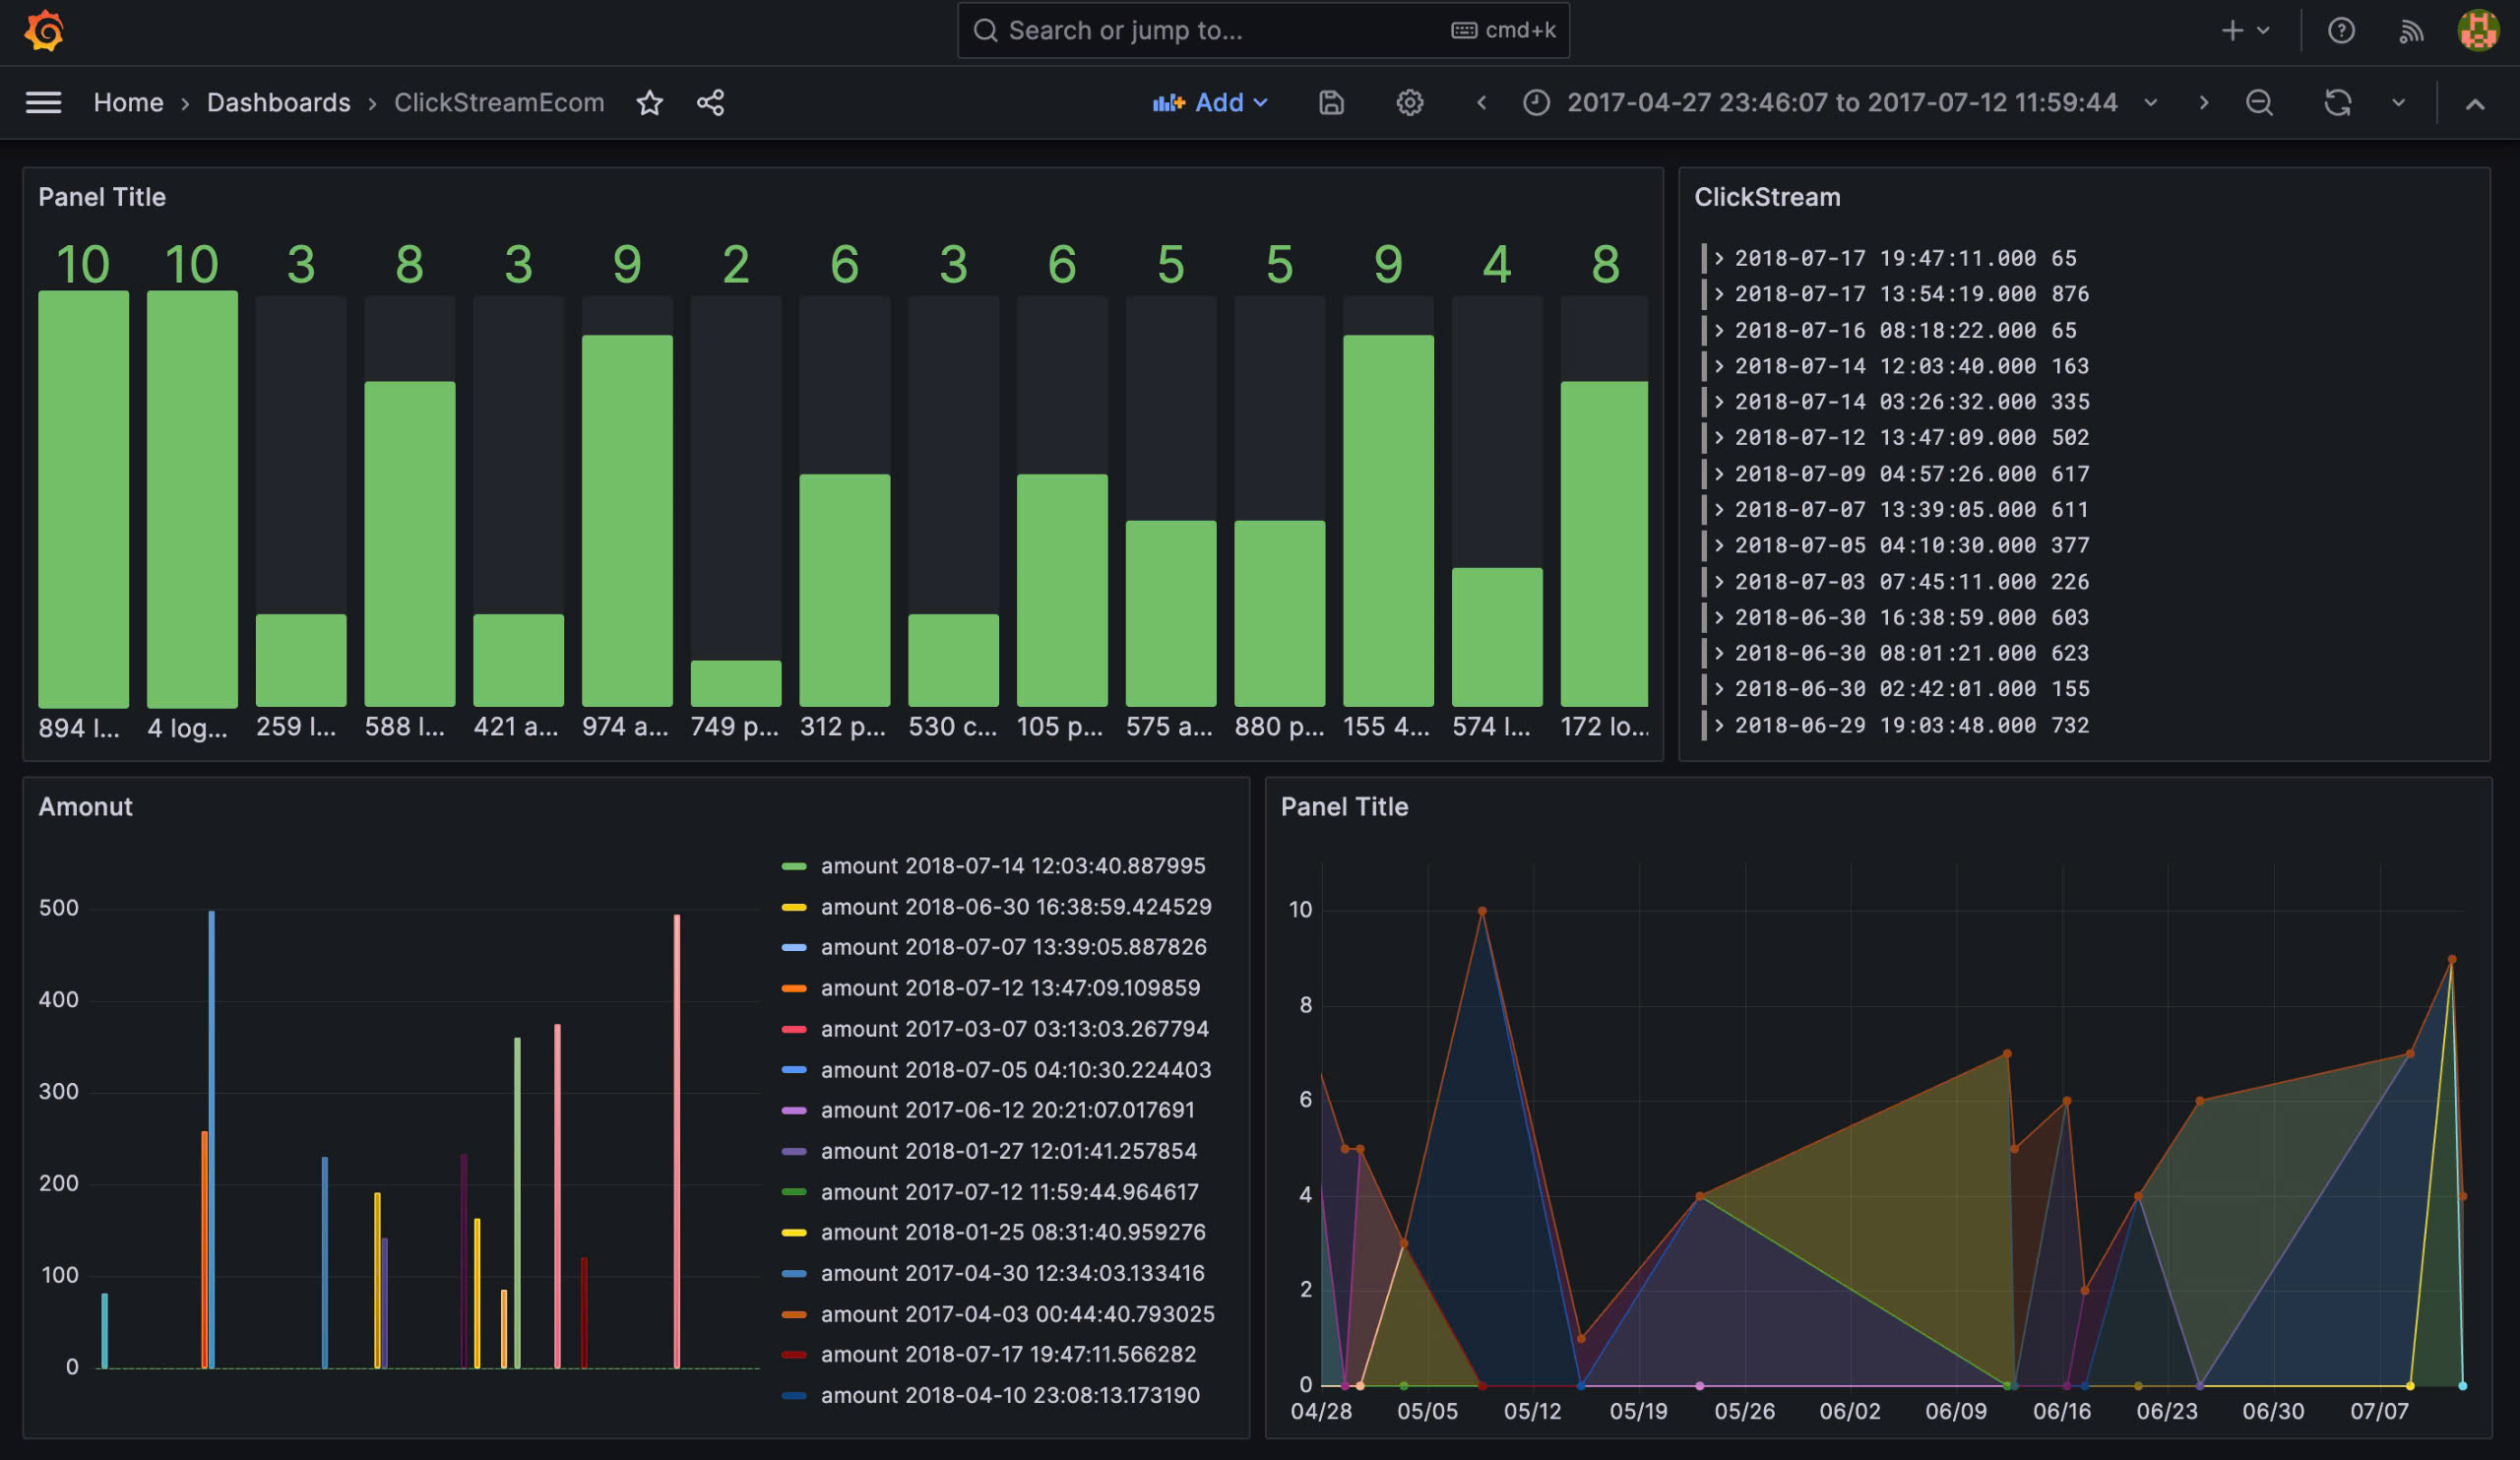

What the dashboard file says about the page in this screenshot:
{"tool":"powerbi","page":{"name":"ClickStream","canvas":[1280,720],"ordinal":2},"visuals":[{"type":"columnChart","fields":{"Y":["Sum(clickstream.amount)"],"Category":["clickstream.user_id"]},"box":[10.4,0,683.3,373],"z":0},{"type":"pieChart","fields":{"Category":["clickstream.session_id"],"Y":["CountNonNull(clickstream.product_id)"]},"box":[10,383,683,337],"z":1},{"type":"funnel","fields":{"Y":["Sum(clickstream.amount)"],"Category":["clickstream.session_id"]},"box":[703,0,577,373],"z":2},{"type":"areaChart","fields":{"Category":["clickstream.timestamp.Variation.Date Hierarchy.Year"],"Y":["Sum(clickstream.amount)"],"Y2":["CountNonNull(clickstream.outcome)"]},"box":[703,383,577,337],"z":3}]}

Visuals, with their boxes on the page's 1280x720 design canvas (x1, y1, x2, y2). These are canvas units, not pixel positions in the 2520x1460 screenshot, which may show the page scaled, cropped or inside an application window:
columnChart - Sum(clickstream.amount) x clickstream.user_id: [10, 0, 694, 373]
pieChart - clickstream.session_id x CountNonNull(clickstream.product_id): [10, 383, 693, 720]
funnel - Sum(clickstream.amount) x clickstream.session_id: [703, 0, 1280, 373]
areaChart - clickstream.timestamp.Variation.Date Hierarchy.Year x Sum(clickstream.amount): [703, 383, 1280, 720]
